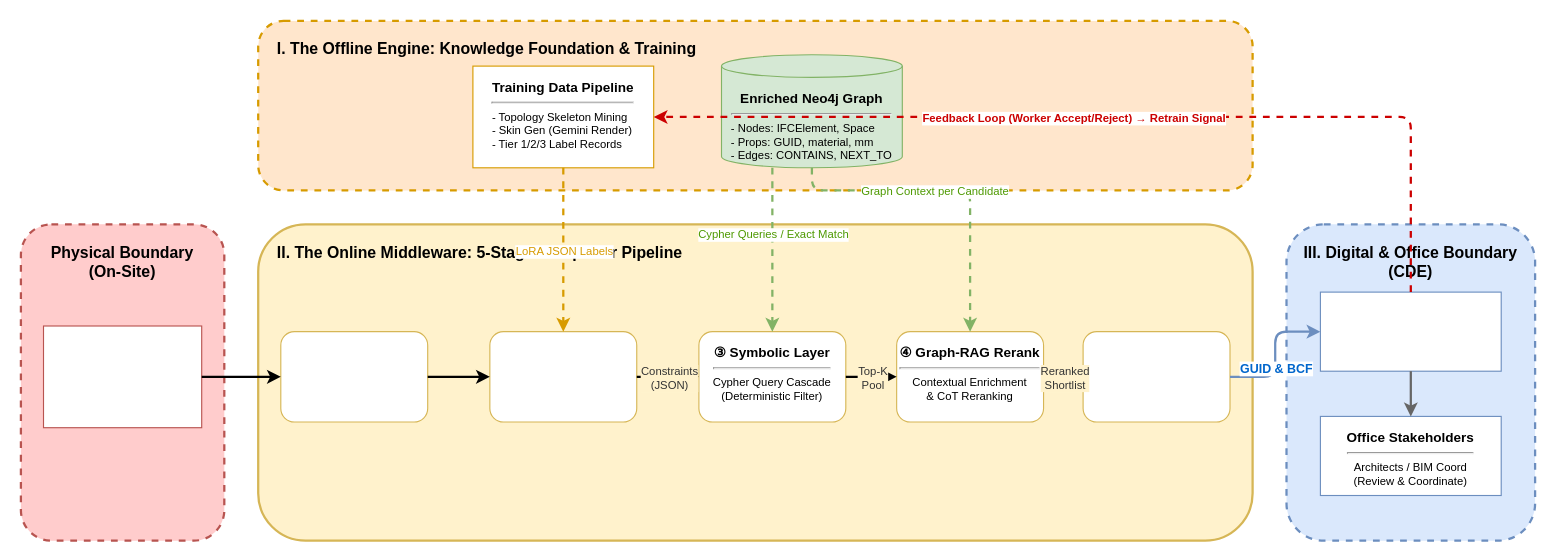
The diagram is 1555 pixels wide and 560 high, and some of its shapes have lost their labels. The centre of each missing label's shape, as x and y in pixels:
"CDE / BIM Cloud IFC Repository BCF Issue Tracker" belongs at (1410,331).
"Unstructured Evidence 📷 Site Photos 💬 WhatsApp Chats 📄 Annotated Floorplans" belongs at (122,376).
"① Multimodal Input Ingest & Format to Constraint Repr (CSR)" belongs at (354,376).
"② Neural Layer Qwen2.5-VL / Gemini (Probabilistic Extraction)" belongs at (563,376).
"⑤ GUID Output JSON Record + Audit Trail BCF 2.1 Package" belongs at (1156,376).
